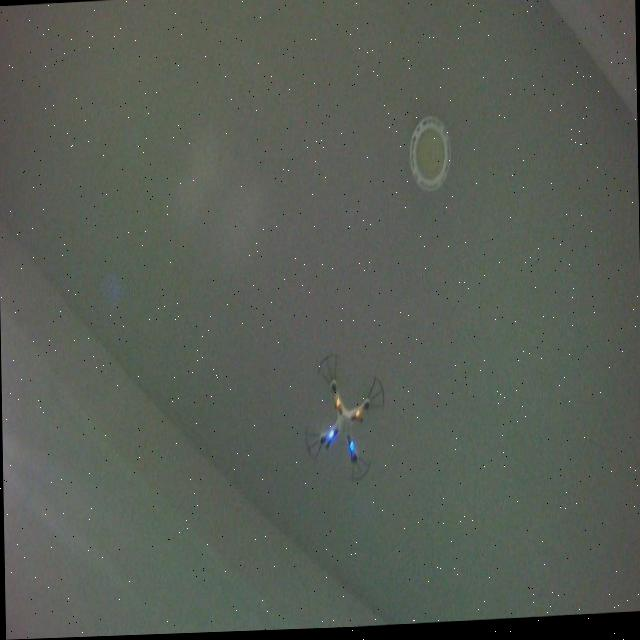drone: (302, 348, 388, 491)
